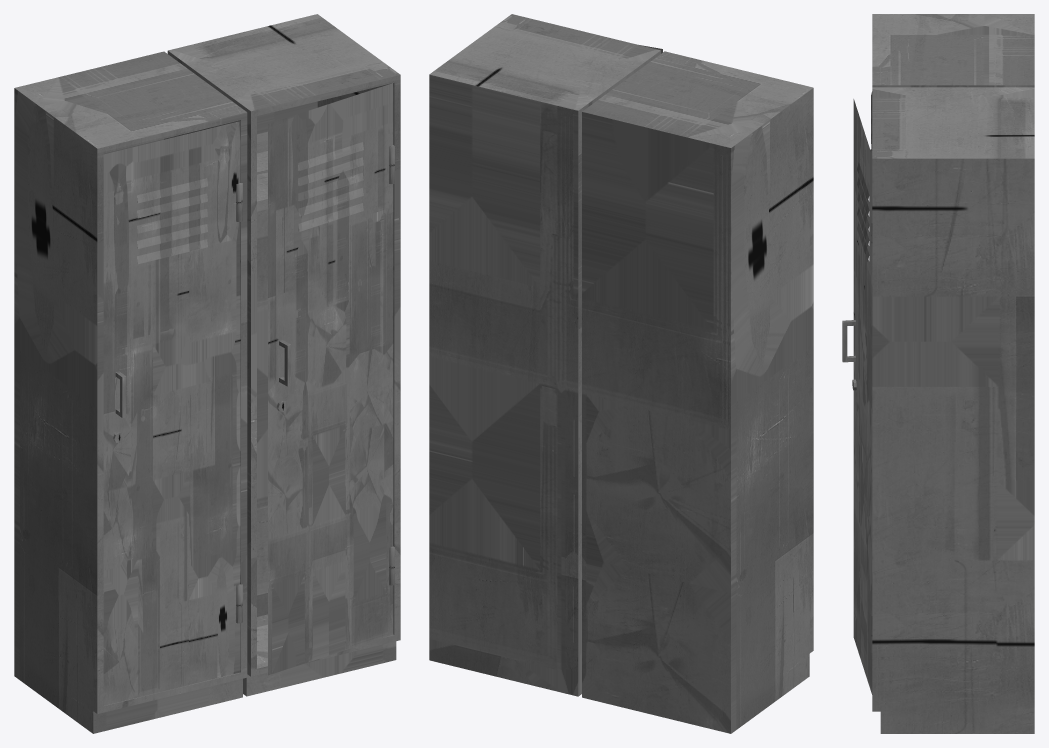
The model's file is locker.fbx.
3 renders of one model, left to right at view 1: azimuth 30°, elevation 25°; view 2: azimuth 150°, elevation 25°; view 3: azimuth 270°, elevation 25°, orthographic. The views are drawn at different scales.
Visible parts, largest first — view 1: Cube.003, Cube.001, Cylinder.000; view 2: Cube.001; view 3: Cube.001, Cube.003, Cylinder.000.
Boxes of the visible parts, left/top/right/bottom form: Cube.003: left=103, top=83, right=393, bottom=705; Cube.001: left=14, top=14, right=400, bottom=733; Cylinder.000: left=113, top=145, right=394, bottom=623; Cube.001: left=429, top=14, right=813, bottom=733; Cube.001: left=872, top=14, right=1034, bottom=733; Cube.003: left=853, top=91, right=872, bottom=694; Cylinder.000: left=842, top=148, right=872, bottom=652.
Bounding box in the file's own units: 108 × 200 × 60.68.
3 materials, 3 textured.
